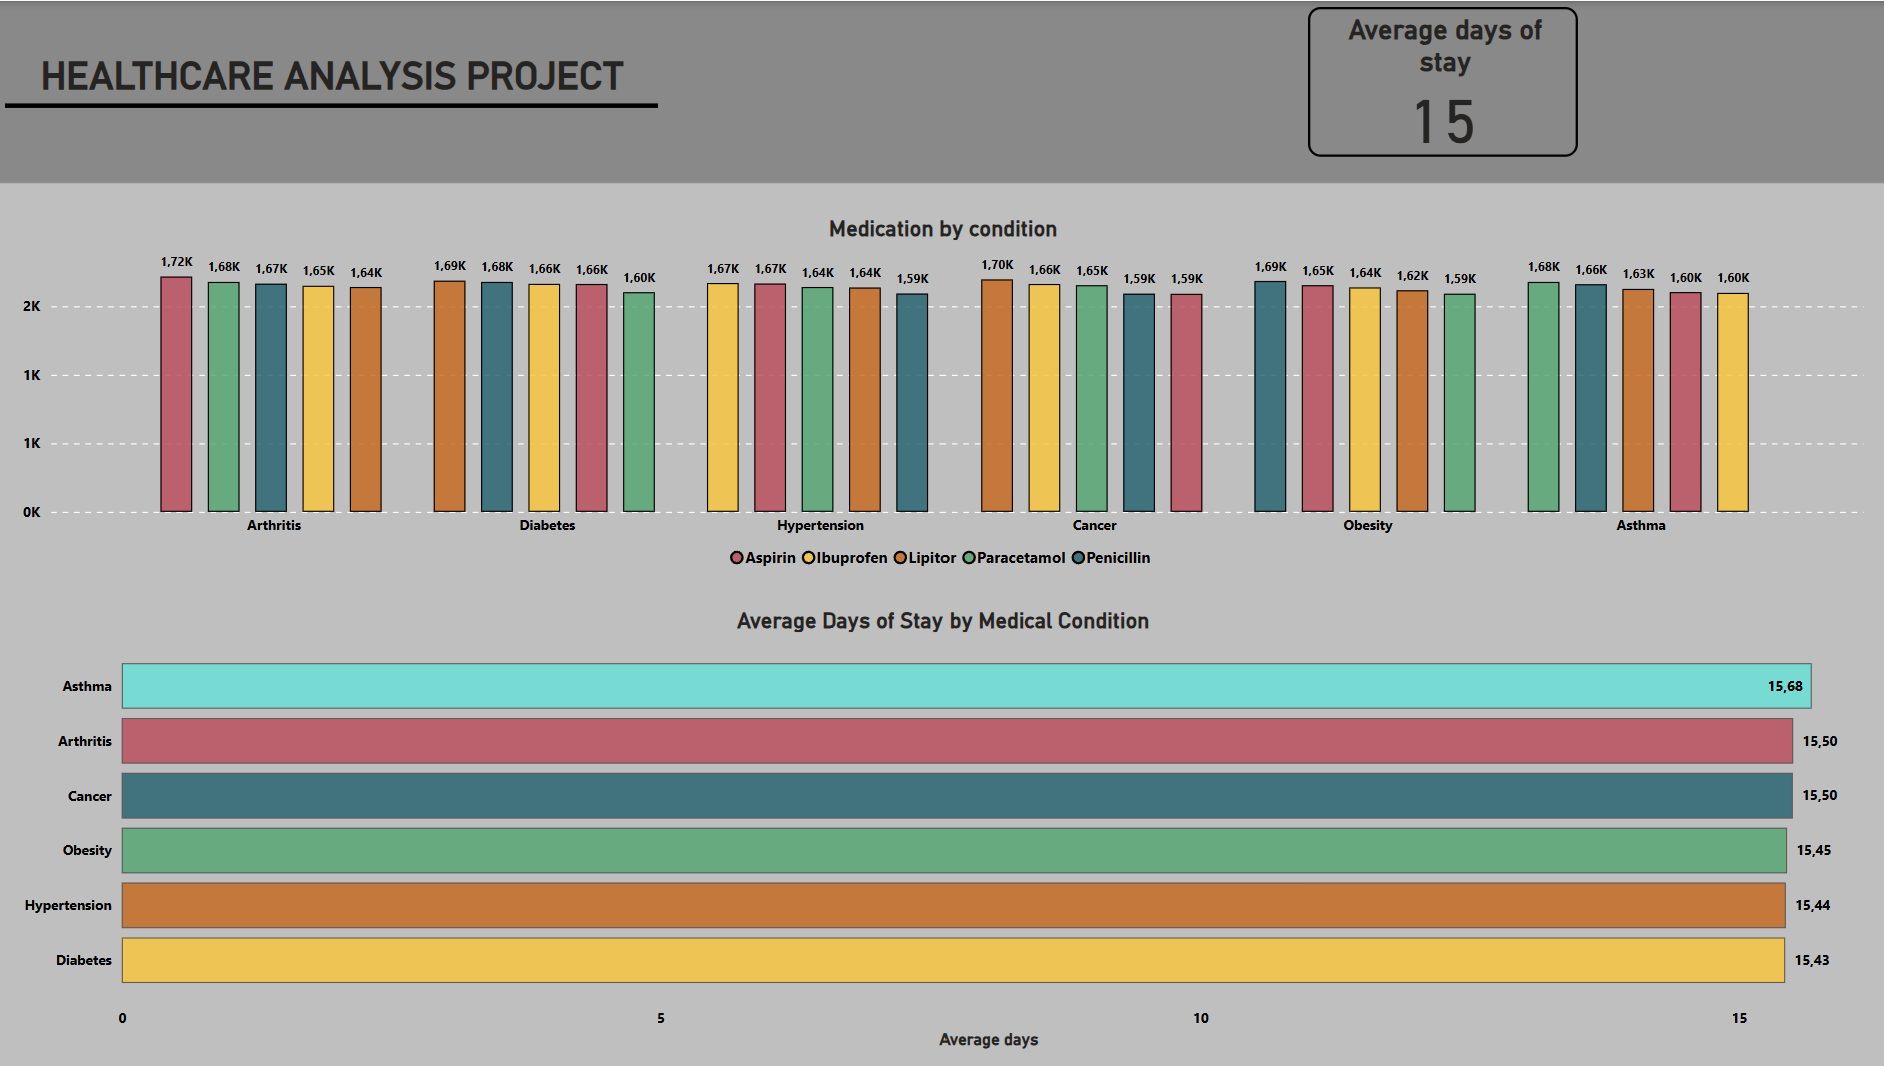

Layout of this report page (visuals, bound fields, positions):
{"tool":"powerbi","page":{"name":"Medication & Condition Analysis","canvas":[1664,936],"ordinal":1},"visuals":[{"type":"clusteredColumnChart","title":"Medication by condition","fields":{"Category":["healthcare_dataset_final.medical_condition"],"Series":["healthcare_dataset_final.medication"],"Y":["Measure Table.Patients per Medication"]},"box":[18.6,187.1,1625.7,320],"z":0},{"type":"clusteredBarChart","title":"Average Days of Stay by Medical Condition","fields":{"Y":["Measure Table.Average_Stay"],"Category":["healthcare_dataset_final.medical_condition"]},"box":[18.6,532.9,1625.7,392.9],"z":1000},{"type":"card","title":"Average days of stay","fields":{"Values":["Measure Table.Average_Stay"]},"box":[1151.4,5.7,237.1,131.4],"z":2000},{"type":"textbox","box":[35,40.4,545.8,61.6],"z":3000},{"type":"shape","box":[8.4,70.9,573.3,43.3],"z":4000}]}

Visuals, with their boxes in screenshot pixels (x1, y1, x2, y2), scaled from the page's 1664x936 canvas onto the 1884x1066 screenshot:
"Medication by condition" clusteredColumnChart: BBox(21, 213, 1862, 578)
"Average Days of Stay by Medical Condition" clusteredBarChart: BBox(21, 607, 1862, 1054)
"Average days of stay" card: BBox(1304, 6, 1572, 156)
textbox: BBox(40, 46, 658, 116)
shape: BBox(10, 81, 659, 130)
